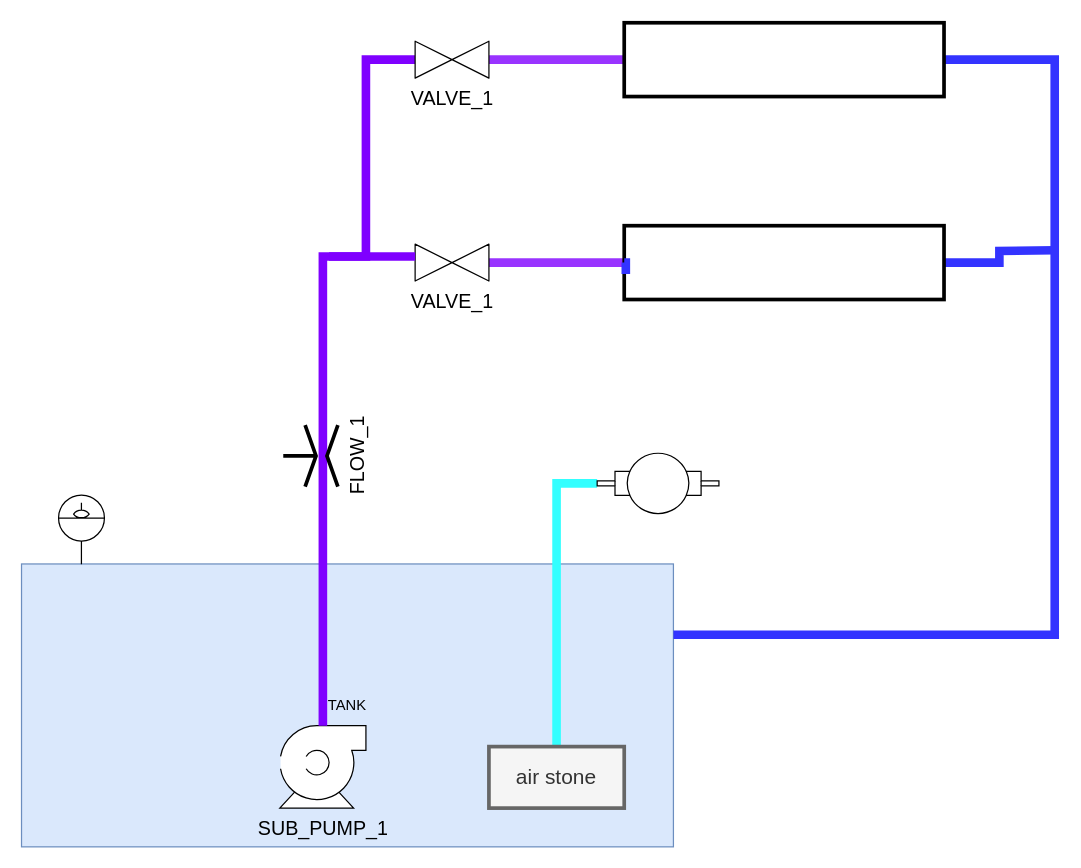
Image size: 1081x868. Some labels were removed from this diagram. Here are the shapes that lost their labels. From the top down, the centre of each, then its label:
At [783,59]: "NFT".
At [783,262]: "FLOOD AND DRAIN".
At [657,483]: "AIR_PUMP_1".
